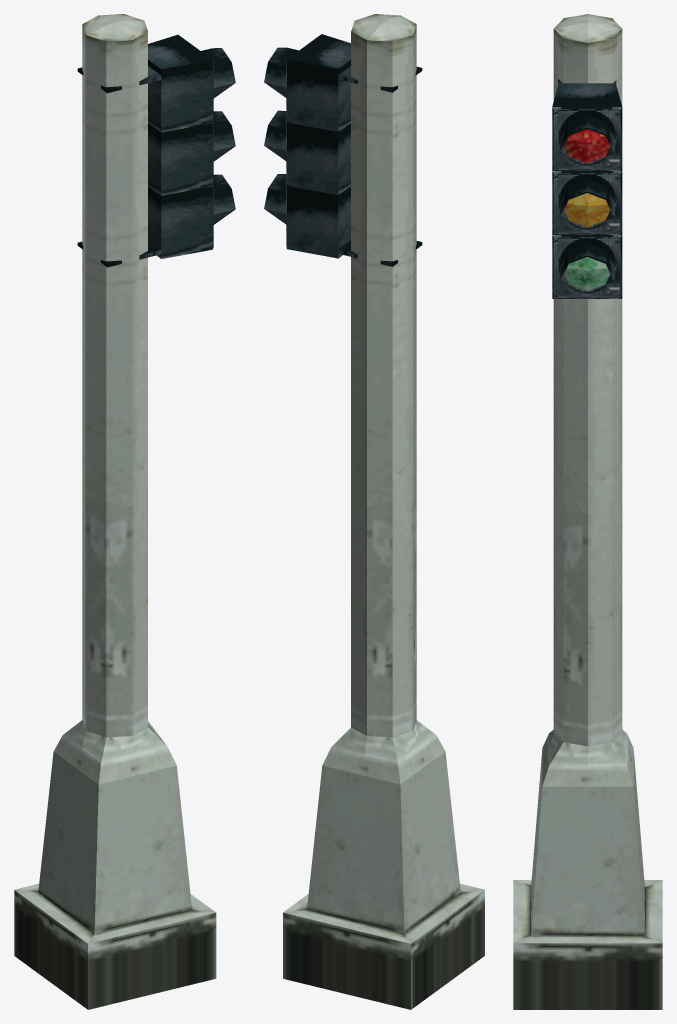
File: Urban_TrafficLight_Model.fbx
The picture shows the model from 3 angles, left to right: view 1: azimuth 30°, elevation 25°; view 2: azimuth 150°, elevation 25°; view 3: azimuth 270°, elevation 25°; orthographic projection.
Parts seen in each view (by area): view 1: Urban_TrafficLight_Mesh; view 2: Urban_TrafficLight_Mesh; view 3: Urban_TrafficLight_Mesh.
Boxes of the visible parts, x1,y1,x2,y2 form: Urban_TrafficLight_Mesh: [14, 14, 235, 1009]; Urban_TrafficLight_Mesh: [264, 14, 484, 1009]; Urban_TrafficLight_Mesh: [513, 14, 662, 1009].
Bounding box in the file's own units: 1.07 × 5.66 × 0.8032.
